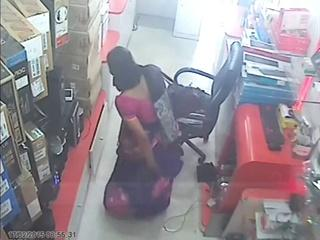Normal: (106, 46, 182, 184)
